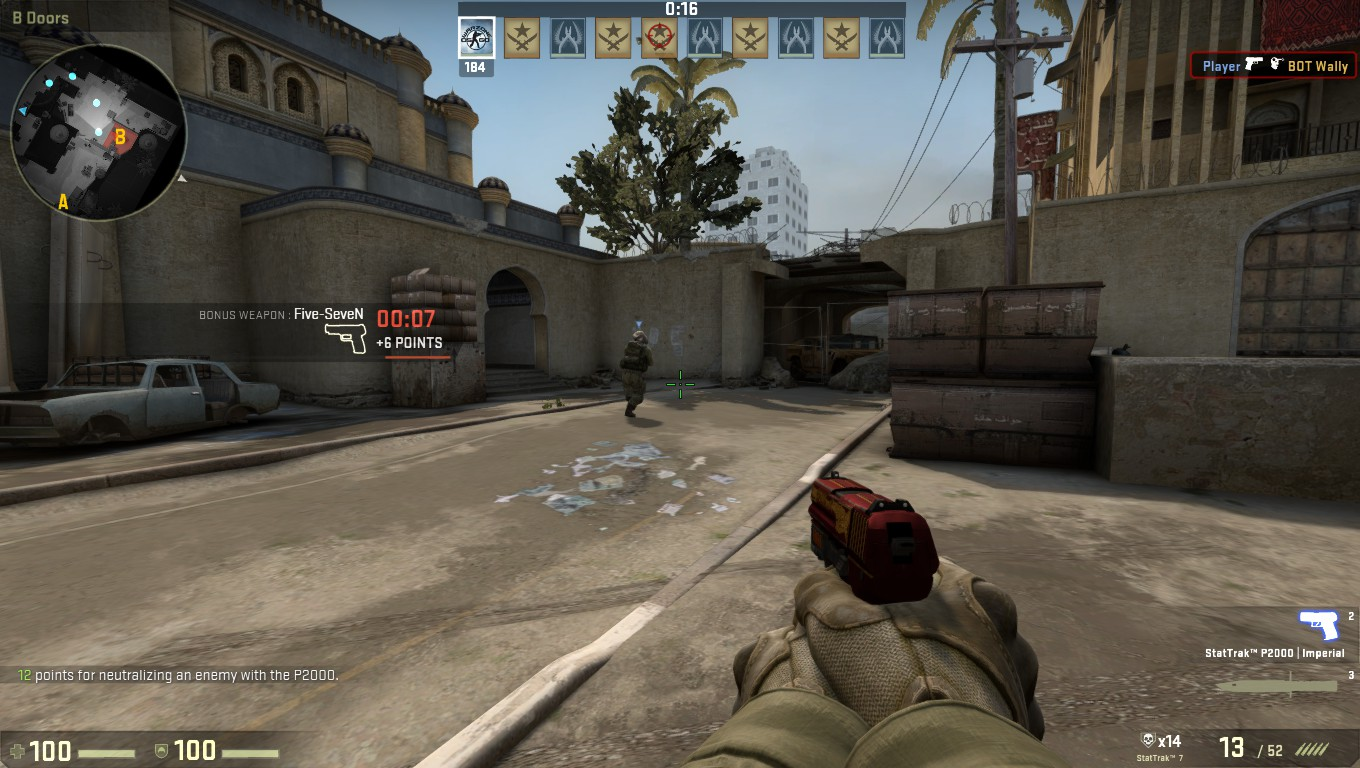c: (618, 329, 652, 419)
ch: (631, 329, 650, 344)
